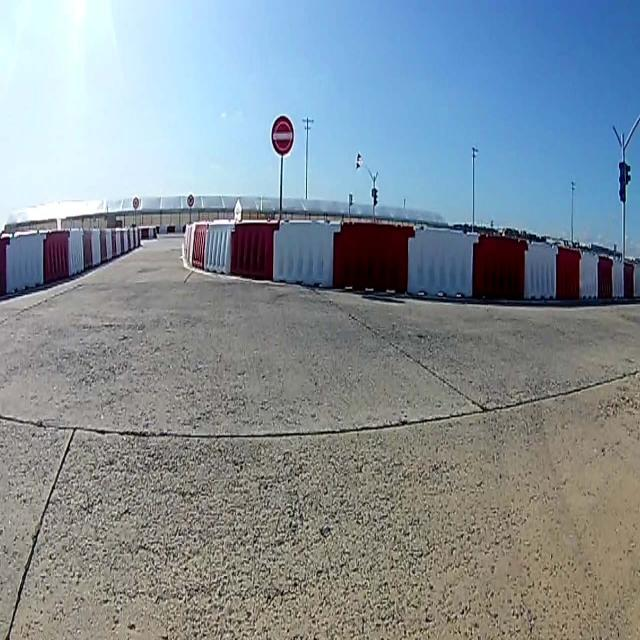girisyok: (273, 117, 293, 151)
